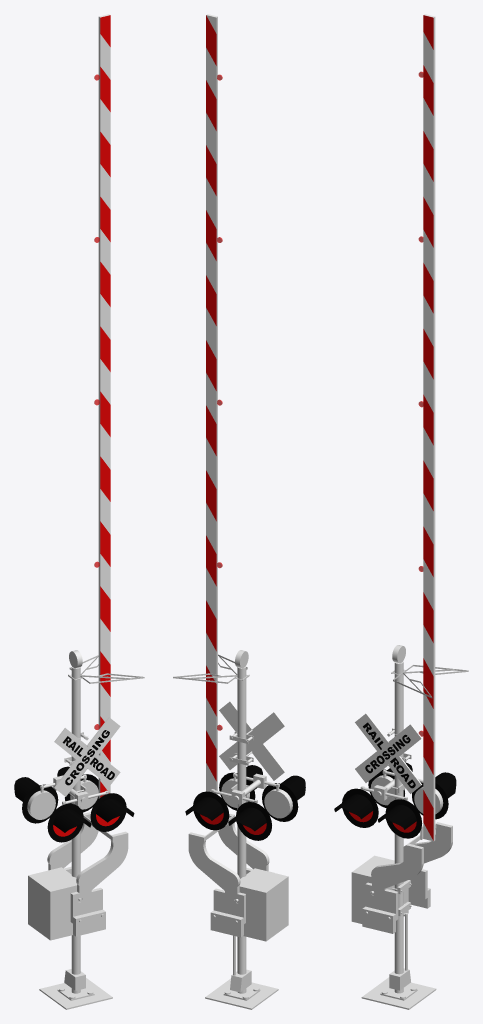
File: 9FwNOUFjxeB.glb
The picture shows the model from 3 angles, left to right: view 1: azimuth 30°, elevation 25°; view 2: azimuth 150°, elevation 25°; view 3: azimuth 330°, elevation 25°; orthographic projection.
Visible parts, largest first — view 1: Mesh2 Model, Mesh1 Model, Mesh21 Model, Mesh18 Model, Mesh20 Model, Mesh19 Model, Mesh22 Model, Mesh8 Model, Mesh3 Model; view 2: Mesh2 Model, Mesh1 Model, Mesh21 Model, Mesh20 Model, Mesh18 Model, Mesh22 Model, Mesh19 Model, Mesh3 Model, Mesh8 Model; view 3: Mesh2 Model, Mesh1 Model, Mesh21 Model, Mesh19 Model, Mesh20 Model, Mesh22 Model, Mesh18 Model, Mesh3 Model, Mesh8 Model.
Part boxes in pixels (x1,y1,x2,y2): Mesh2 Model: (28, 14, 128, 940); Mesh1 Model: (39, 667, 112, 1009); Mesh21 Model: (54, 717, 120, 796); Mesh18 Model: (14, 777, 58, 823); Mesh20 Model: (47, 803, 91, 842); Mesh19 Model: (90, 793, 134, 831); Mesh22 Model: (57, 766, 98, 812); Mesh8 Model: (68, 655, 144, 683); Mesh3 Model: (64, 969, 85, 990); Mesh2 Model: (188, 14, 288, 941); Mesh1 Model: (205, 666, 278, 1009); Mesh21 Model: (219, 701, 285, 780); Mesh20 Model: (262, 775, 305, 821); Mesh18 Model: (228, 802, 271, 840); Mesh22 Model: (185, 791, 229, 830); Mesh19 Model: (219, 765, 262, 810); Mesh3 Model: (230, 935, 251, 992); Mesh8 Model: (173, 654, 249, 683); Mesh2 Model: (351, 14, 452, 933); Mesh1 Model: (361, 661, 436, 1009); Mesh21 Model: (355, 713, 421, 793); Mesh19 Model: (377, 799, 422, 838); Mesh20 Model: (334, 788, 378, 827); Mesh22 Model: (412, 772, 456, 819); Mesh18 Model: (368, 763, 412, 808); Mesh3 Model: (389, 913, 410, 990); Mesh8 Model: (391, 664, 468, 698).
Size of the model in its own units: 35.94 by 359 by 41.38.
